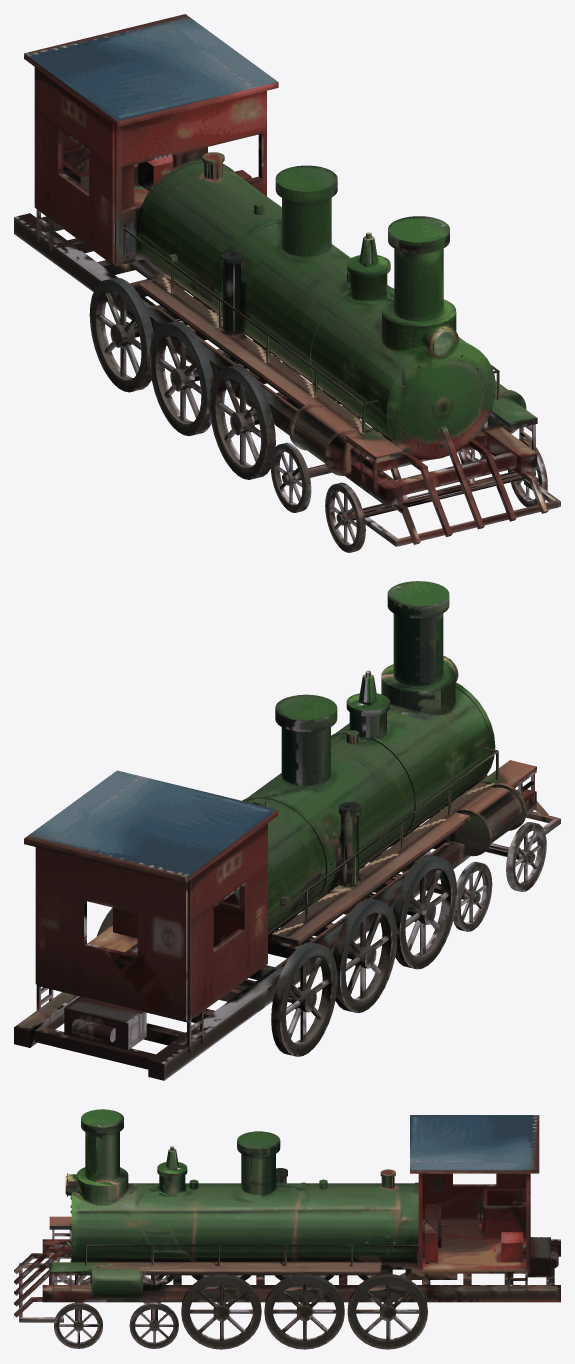
Rendered from train.glb.
The picture shows the model from 3 angles, top to bottom: view 1: azimuth 30°, elevation 25°; view 2: azimuth 150°, elevation 25°; view 3: azimuth 270°, elevation 25°; orthographic projection. The views are drawn at different scales.
Parts seen in each view (by area): view 1: Cab_Roof.002; view 2: Cab_Roof.002; view 3: Cab_Roof.002.
Part boxes in pixels (x1,y1,x2,y2): Cab_Roof.002: (14, 14, 560, 552); Cab_Roof.002: (14, 581, 560, 1080); Cab_Roof.002: (14, 1109, 560, 1349).
Bounding box in the file's own units: 3.73 × 5.08 × 12.67.
Materials: 1 (1 with a texture image).
